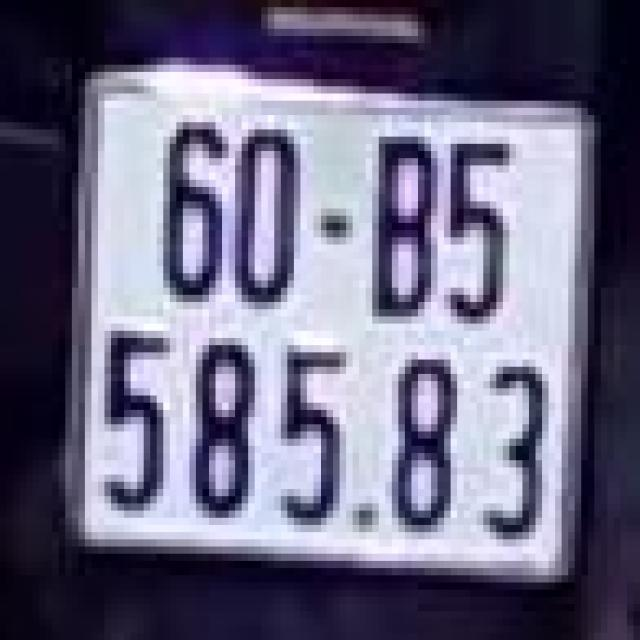0: (235, 122, 301, 316)
3: (483, 352, 555, 540)
5: (98, 320, 170, 521), (444, 140, 516, 327), (281, 342, 346, 528)
6: (157, 111, 222, 313)
8: (190, 334, 262, 522), (392, 352, 464, 532)
B: (366, 130, 438, 323)
